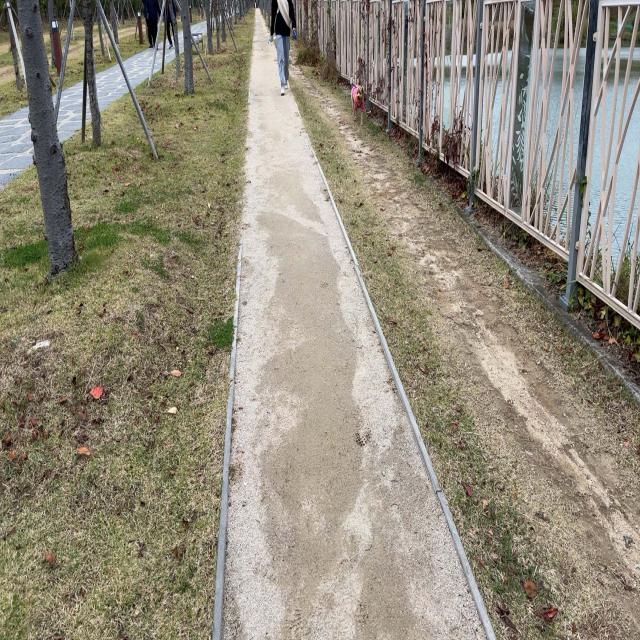Leashed_Dog: (284, 27, 365, 126)
